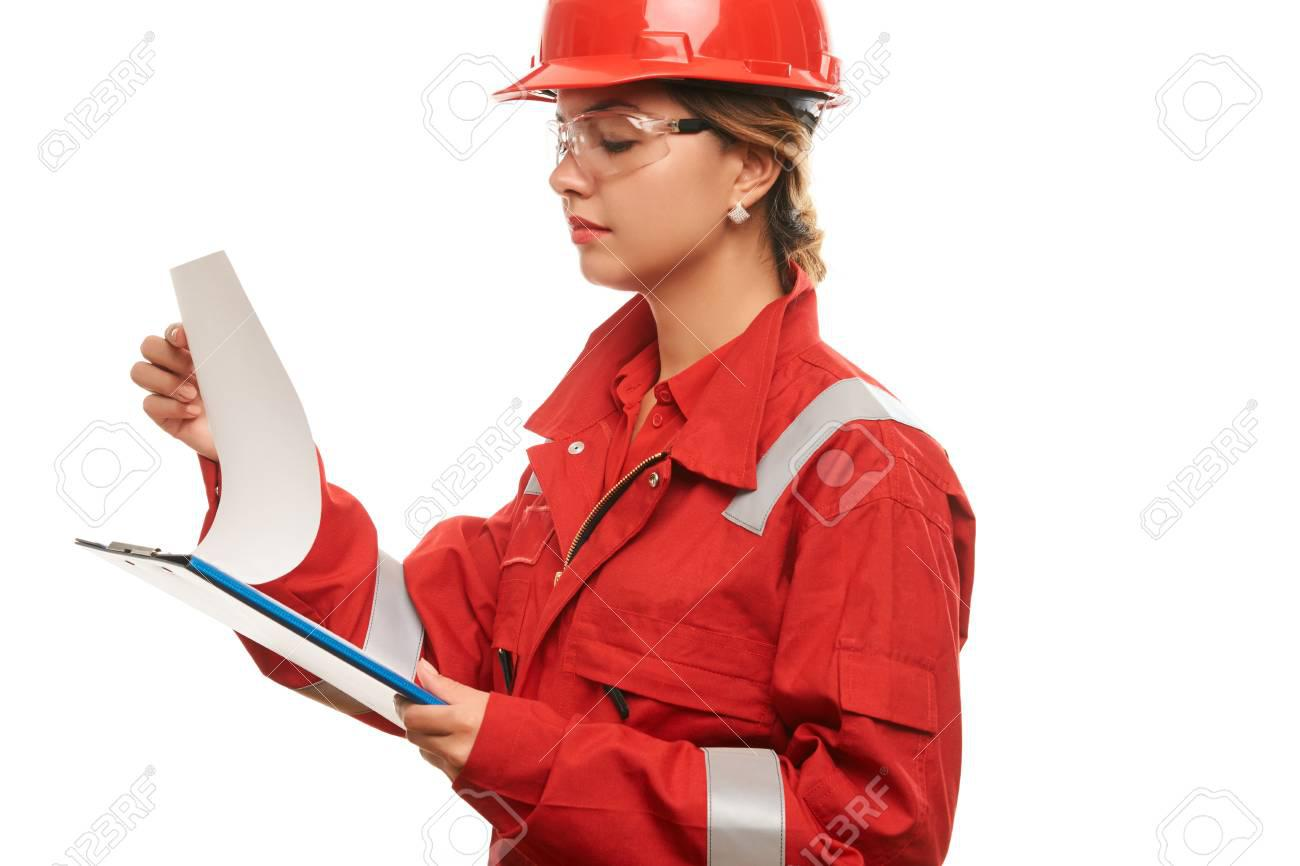hardhat: (495, 2, 850, 107)
worker: (126, 1, 969, 865)
